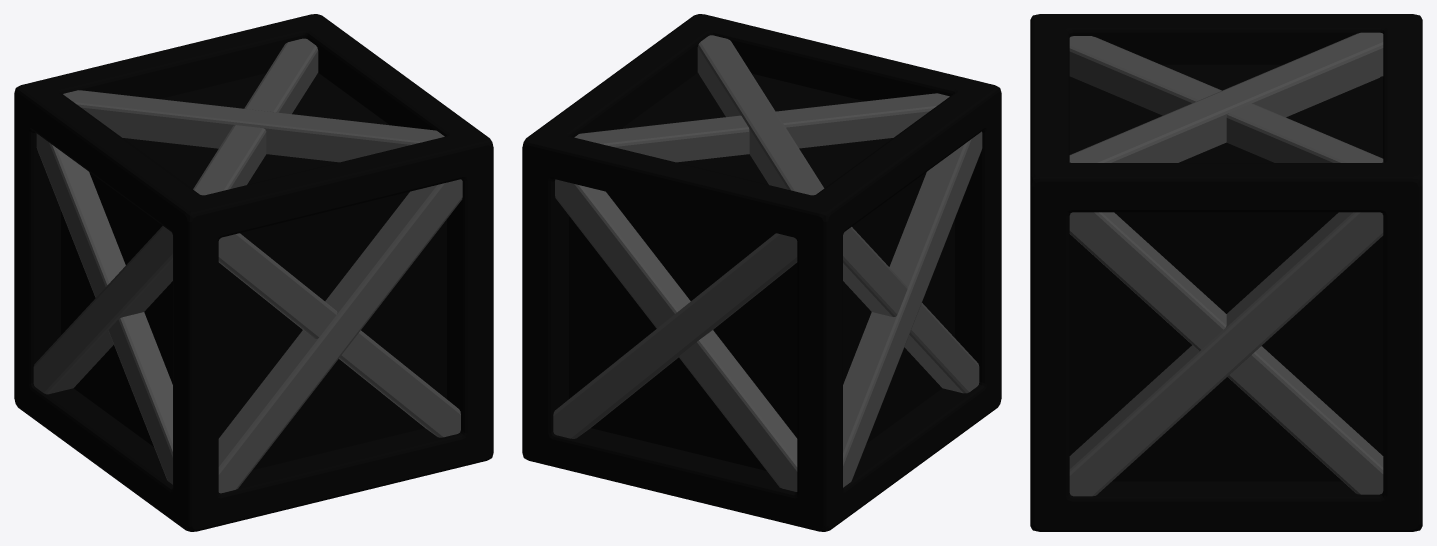
The model's file is Crate_PC_Case.fbx.
3 renders of one model, left to right at view 1: azimuth 30°, elevation 25°; view 2: azimuth 150°, elevation 25°; view 3: azimuth 270°, elevation 25°, orthographic. The views are drawn at different scales.
Visible parts, largest first — view 1: Crate PC Case; view 2: Crate PC Case; view 3: Crate PC Case.
Part boxes in pixels (<box>): Crate PC Case: <box>14,14,493,531</box>; Crate PC Case: <box>522,14,1001,531</box>; Crate PC Case: <box>1030,14,1422,531</box>.
Bounding box in the file's own units: 100 × 100 × 100.
